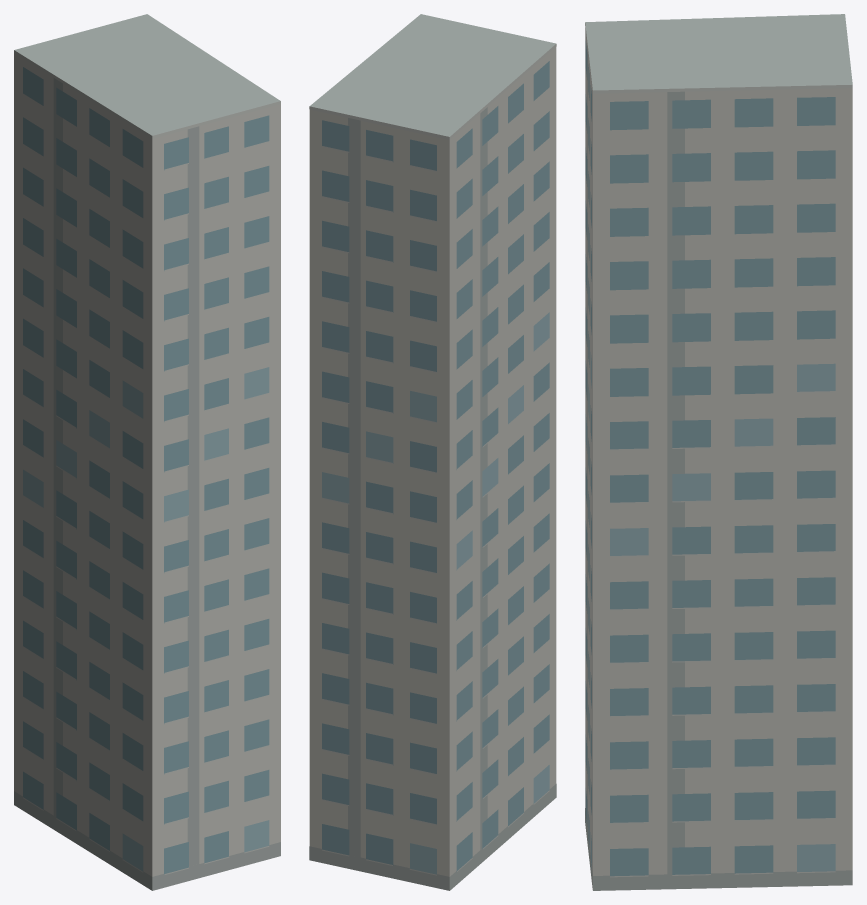
The model's file is residential-fcf3699d-7da5-47f6-871b-65132f786a5e.glb.
3 views of the same model, side by side, from view 1: azimuth 30°, elevation 25°; view 2: azimuth 150°, elevation 25°; view 3: azimuth 270°, elevation 25° (orthographic). The views are drawn at different scales.
Visible parts, largest first — view 1: residential-fcf3699d-7da5-47f6-871b-65132f786a5e.tmp; view 2: residential-fcf3699d-7da5-47f6-871b-65132f786a5e.tmp; view 3: residential-fcf3699d-7da5-47f6-871b-65132f786a5e.tmp.
Boxes of the visible parts, <box> form: residential-fcf3699d-7da5-47f6-871b-65132f786a5e.tmp: <box>14,14,280,890</box>; residential-fcf3699d-7da5-47f6-871b-65132f786a5e.tmp: <box>309,14,556,890</box>; residential-fcf3699d-7da5-47f6-871b-65132f786a5e.tmp: <box>585,14,852,890</box>.
Size of the model in its own units: 12.31 by 60 by 18.19.
